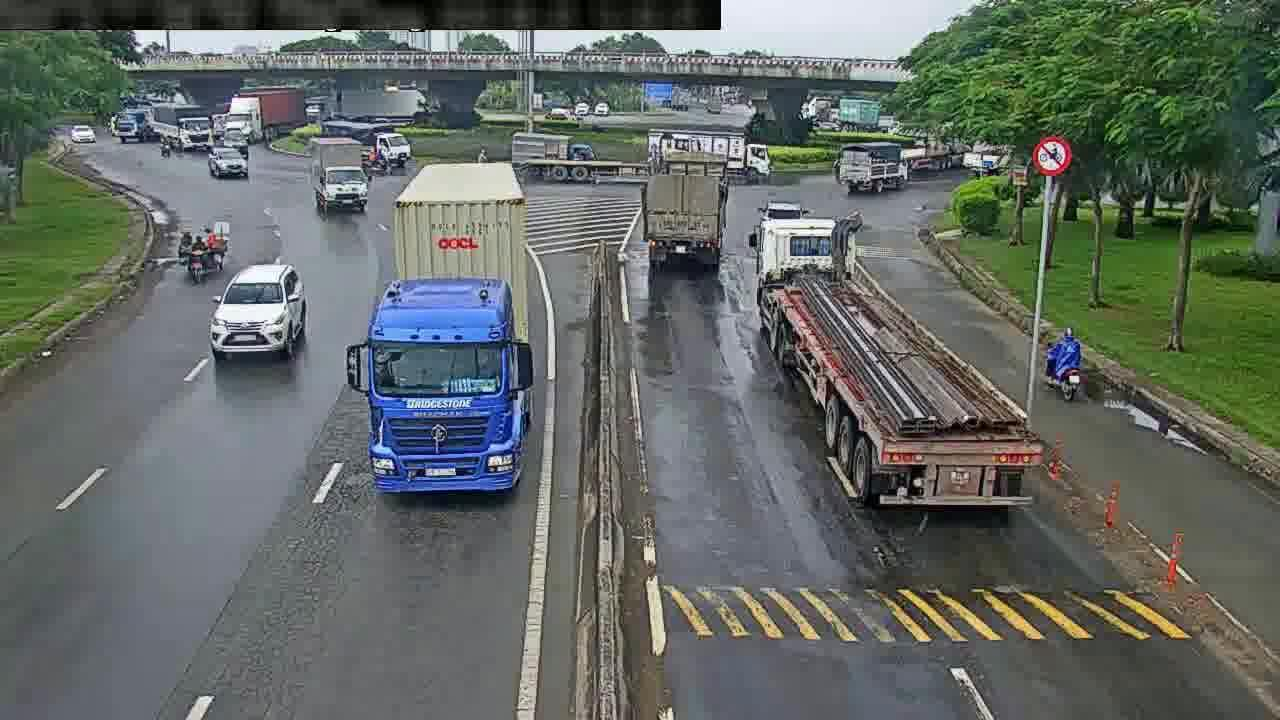car: (204, 259, 317, 366), (205, 142, 249, 181)
container: (747, 211, 1056, 518), (344, 152, 539, 513), (640, 149, 735, 270), (640, 125, 773, 180), (832, 139, 909, 193), (320, 119, 411, 164), (314, 140, 368, 213), (510, 133, 595, 169)
motorbike: (1047, 327, 1084, 397)
